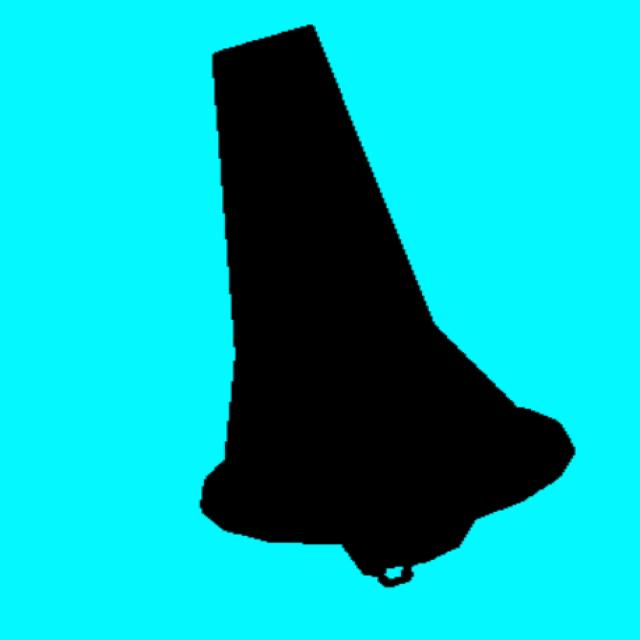BlackBuoy: (202, 26, 573, 586)
